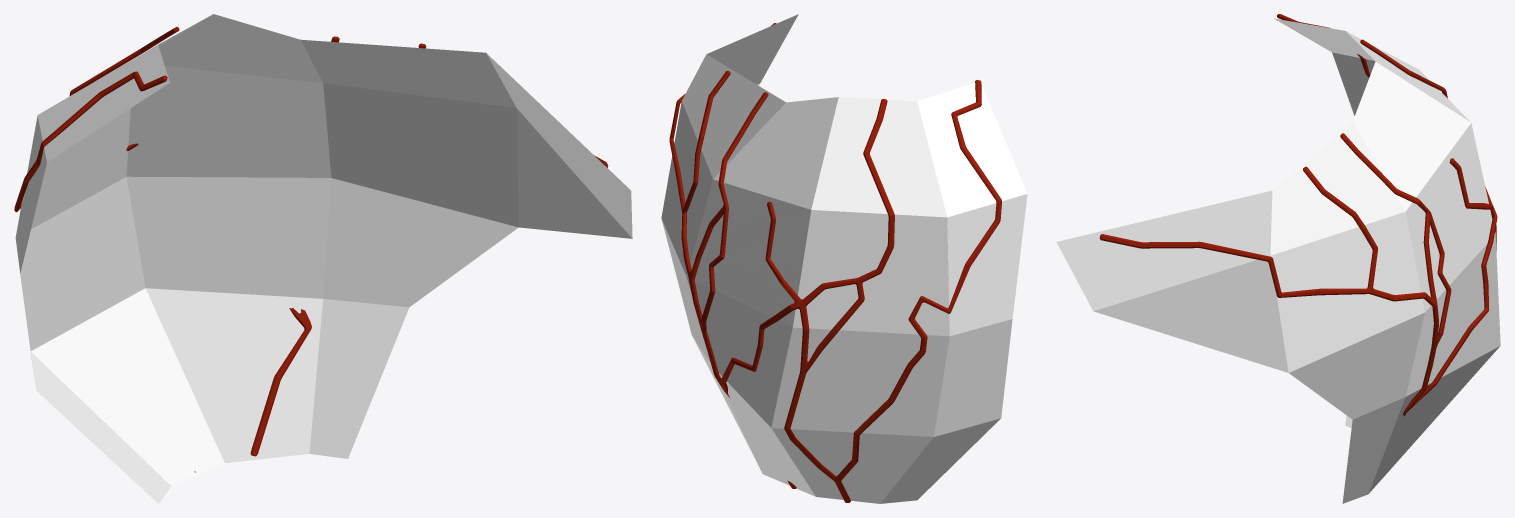
Rendered from Lo-Sha_Coral_Plant.fbx.
The picture shows the model from 3 angles, left to right: view 1: azimuth 30°, elevation 25°; view 2: azimuth 150°, elevation 25°; view 3: azimuth 270°, elevation 25°; orthographic projection. The views are drawn at different scales.
Visible parts, largest first — view 1: pSphere1, pSphere2; view 2: pSphere1, pSphere2; view 3: pSphere1, pSphere2.
Boxes of the visible parts, bbox=[...] form: pSphere1: bbox=[15, 14, 632, 503]; pSphere2: bbox=[14, 26, 608, 472]; pSphere1: bbox=[661, 14, 1027, 503]; pSphere2: bbox=[669, 23, 1001, 502]; pSphere1: bbox=[1056, 18, 1500, 503]; pSphere2: bbox=[1099, 14, 1497, 416].
Bounding box in the file's own units: 219 × 215 × 217.
Materials: 2 (1 with a texture image).
